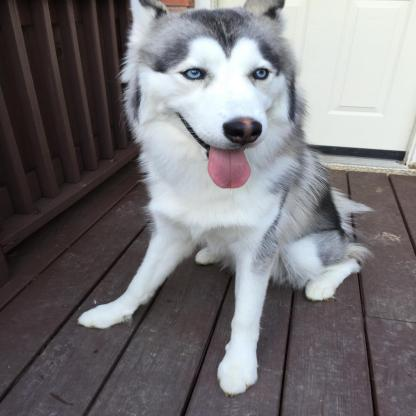husky: (78, 1, 368, 396)
